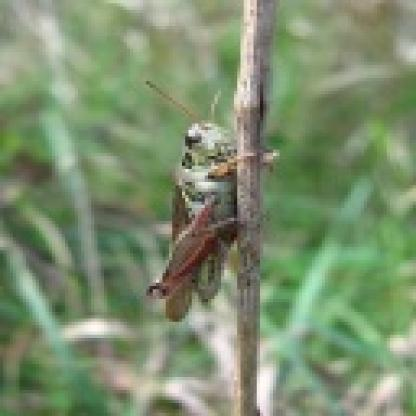grasshopper: (140, 72, 284, 330)
